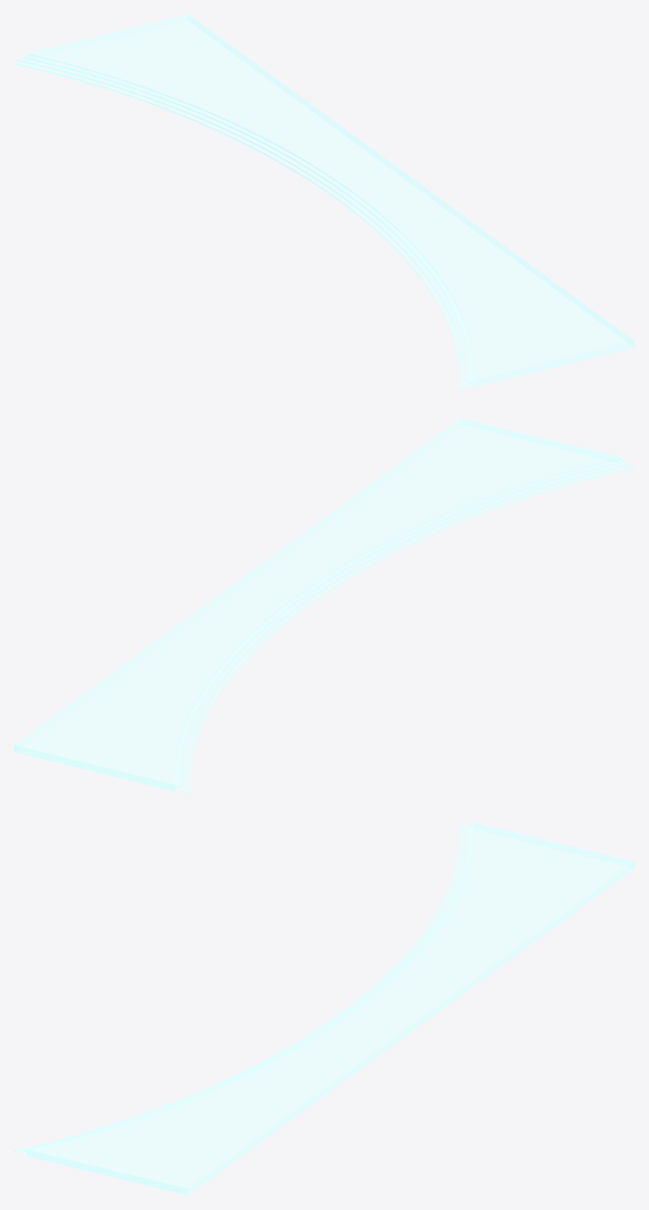
File: Stairs.glb
The picture shows the model from 3 angles, top to bottom: view 1: azimuth 30°, elevation 25°; view 2: azimuth 150°, elevation 25°; view 3: azimuth 330°, elevation 25°; orthographic projection.
Parts seen in each view (by area): view 1: debug_view; view 2: debug_view; view 3: debug_view.
Part boxes in pixels (bbox=[...]): debug_view: bbox=[14, 14, 634, 389]; debug_view: bbox=[14, 418, 634, 793]; debug_view: bbox=[14, 822, 634, 1195].
Bounding box in the file's own units: 40.79 × 1.5 × 180.
